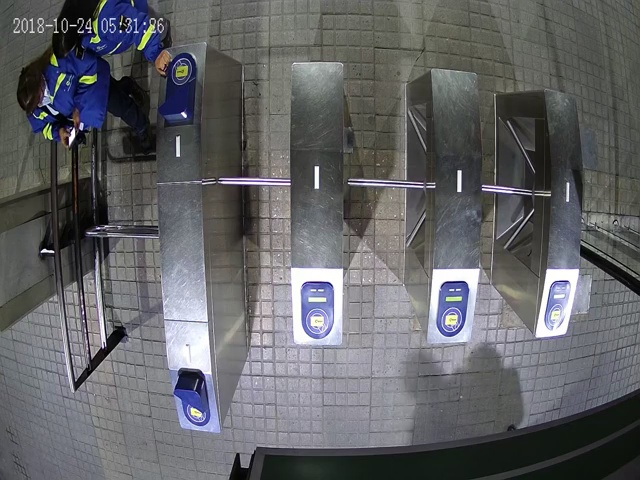Chaleco_azul: (17, 46, 152, 148), (51, 1, 172, 78)
